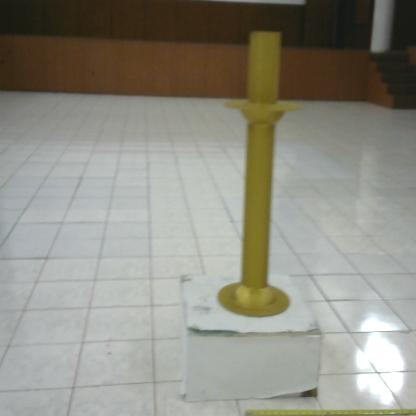pole: (214, 21, 305, 326)
